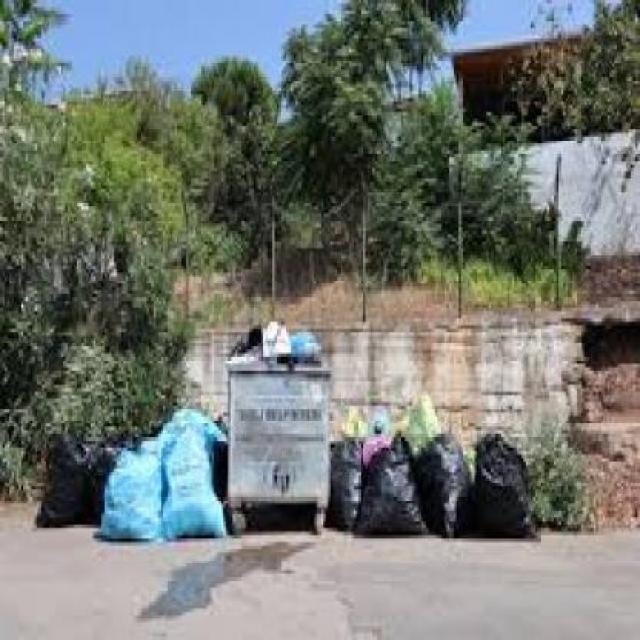garbage: (57, 396, 538, 539), (231, 322, 331, 448)
